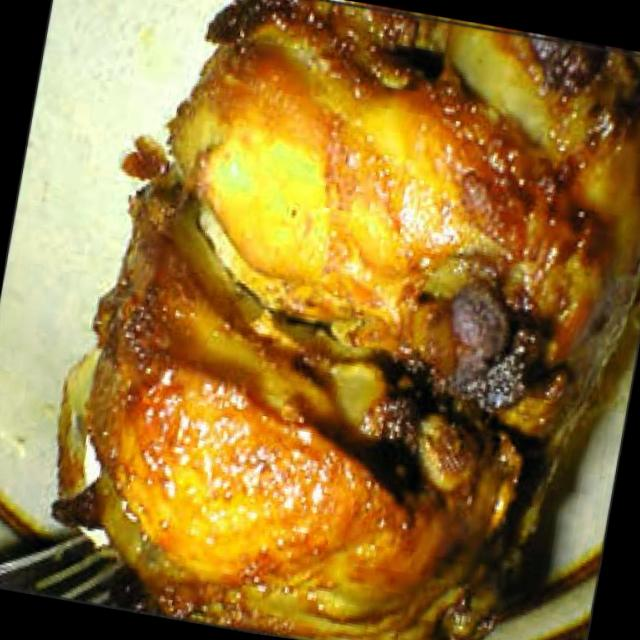Chicken: (34, 0, 640, 640)
